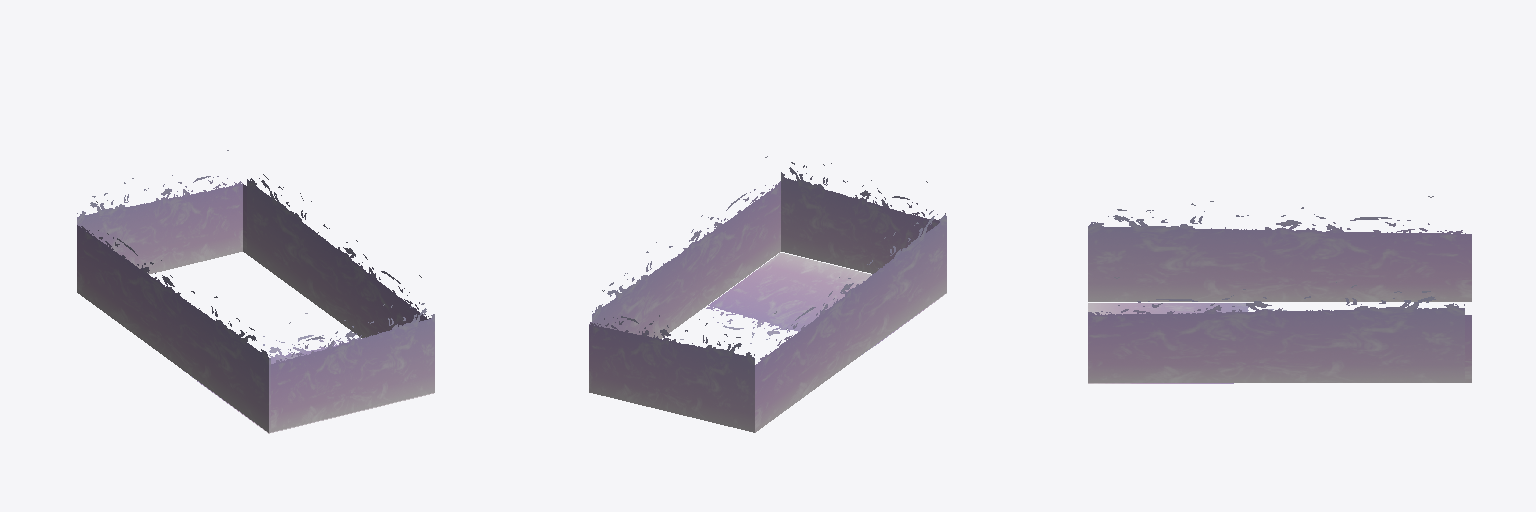
The picture shows the model from 3 angles: view 1: azimuth 30°, elevation 25°; view 2: azimuth 150°, elevation 25°; view 3: azimuth 270°, elevation 25°; orthographic projection.
Visible parts, largest first — view 1: 立方体.046_立方体.018; view 2: 立方体.046_立方体.018; view 3: 立方体.046_立方体.018.
Boxes of the visible parts, box(x1,y1,x2,y2) form: 立方体.046_立方体.018: box(77, 150, 434, 433); 立方体.046_立方体.018: box(589, 156, 946, 432); 立方体.046_立方体.018: box(1088, 196, 1471, 383).
Bounding box in the file's own units: 39.3 × 39.3 × 78.6.
Materials: 1 (1 with a texture image).